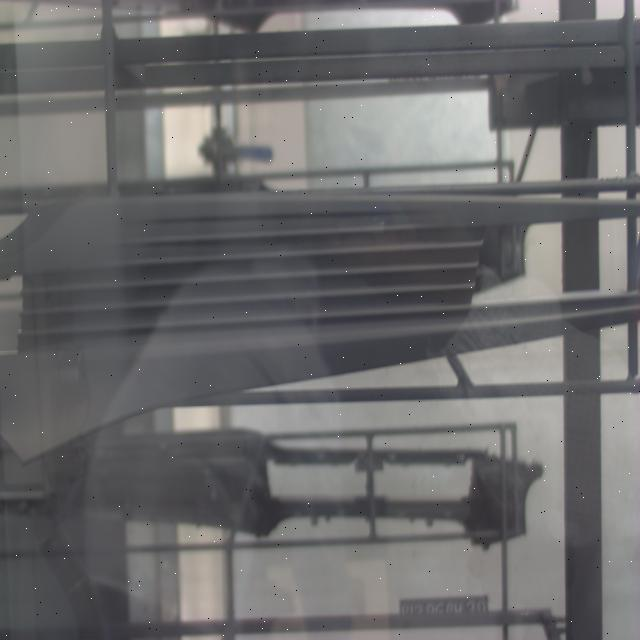Primered: (0, 179, 635, 478)
